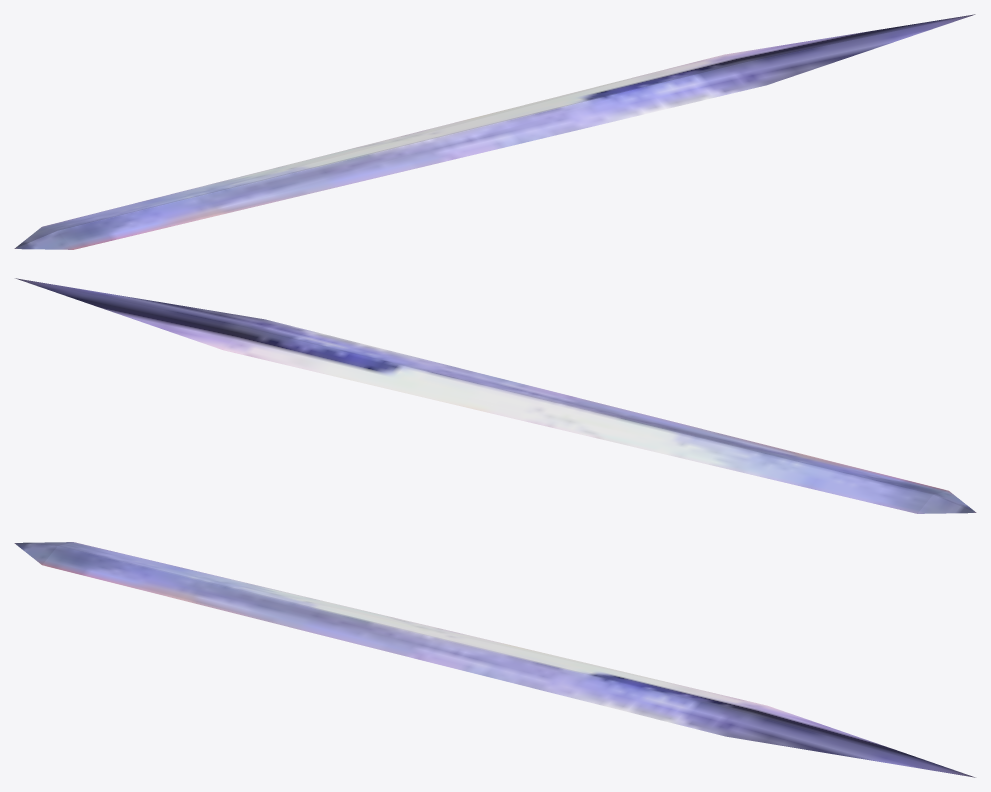
The model's file is MAGICZNE_OSTRZE.glb.
3 renders of one model, top to bottom at view 1: azimuth 30°, elevation 25°; view 2: azimuth 150°, elevation 25°; view 3: azimuth 330°, elevation 25°, orthographic.
Parts seen in each view (by area): view 1: MAGICZNE_OSTRZE; view 2: MAGICZNE_OSTRZE; view 3: MAGICZNE_OSTRZE.
Boxes of the visible parts, <box> form: MAGICZNE_OSTRZE: <box>14,14,975,249</box>; MAGICZNE_OSTRZE: <box>15,278,976,513</box>; MAGICZNE_OSTRZE: <box>14,542,975,777</box>.
Bounding box in the file's own units: 1.05 × 0.016 × 0.08.
1 material, 1 textured.
